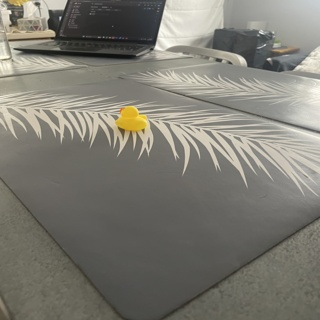duck_regular: (110, 107, 150, 129)
